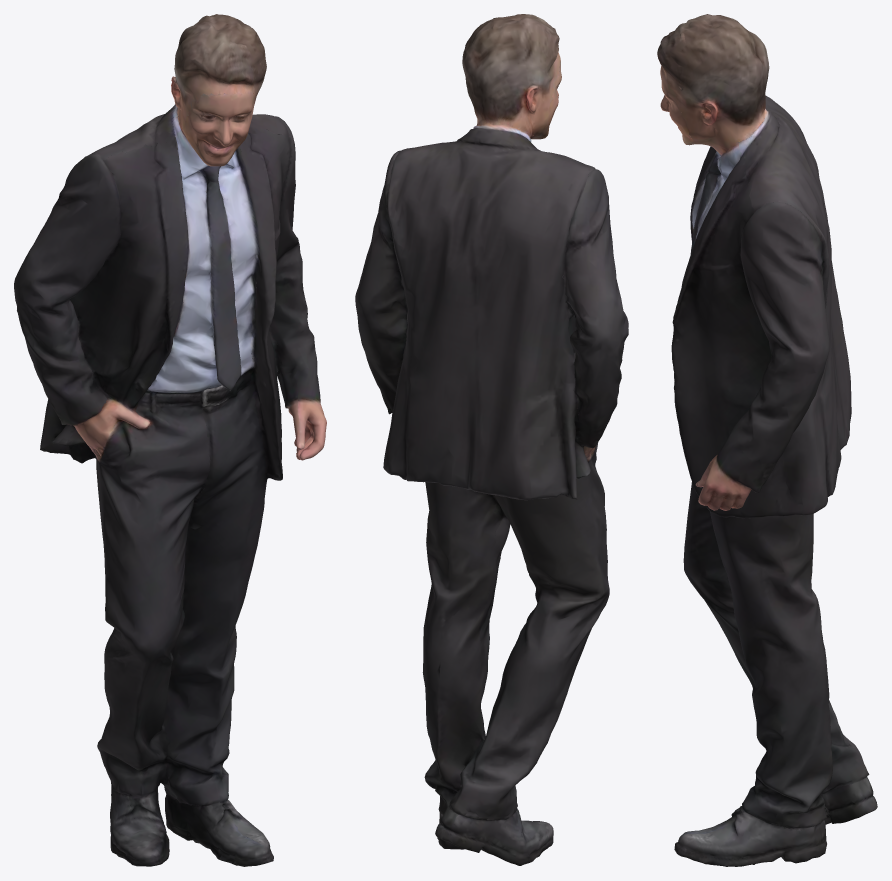
The model's file is person-standing-1.glb.
3 renders of one model, left to right at view 1: azimuth 30°, elevation 25°; view 2: azimuth 150°, elevation 25°; view 3: azimuth 270°, elevation 25°, orthographic. The views are drawn at different scales.
Visible parts, largest first — view 1: rp_dennis_posed_004_100k_rp_dennis_posed_004_100k_mat_0; view 2: rp_dennis_posed_004_100k_rp_dennis_posed_004_100k_mat_0; view 3: rp_dennis_posed_004_100k_rp_dennis_posed_004_100k_mat_0.
Boxes of the visible parts, left/top/right/bottom form: rp_dennis_posed_004_100k_rp_dennis_posed_004_100k_mat_0: left=14, top=14, right=326, bottom=866; rp_dennis_posed_004_100k_rp_dennis_posed_004_100k_mat_0: left=355, top=14, right=628, bottom=865; rp_dennis_posed_004_100k_rp_dennis_posed_004_100k_mat_0: left=657, top=14, right=877, bottom=866.
Size of the model in its own units: 0.6175 by 1.8 by 0.4327.
Materials: 1 (1 with a texture image).
